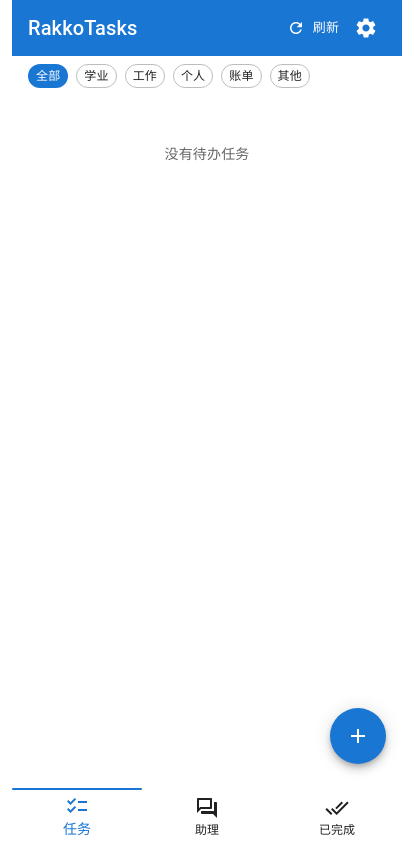
Test: AppShell 顶栏刷新按钮与 /sync 子页 › 待办页顶栏是「刷新」按钮，没有纯标题；其他页面仍是纯标题、没有刷新按钮
Check: the text "没有待办任务" is shown, box [164,146,249,162]
Check: the header is shown, box [12,0,402,56]
Note: 切到已完成页：顶栏回到纯标题，刷新按钮消失
Click the button "已完成": (337, 816) [272,788,402,843]
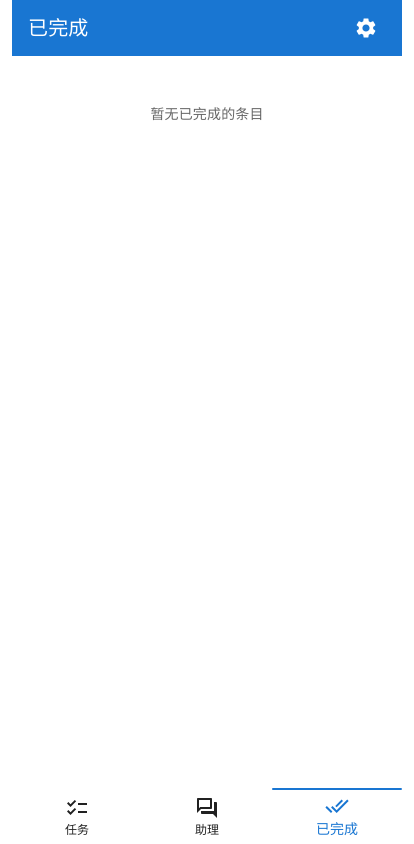
Check: the heading "已完成" is shown, box [28,16,88,40]
Check: the button "刷新" is gone
